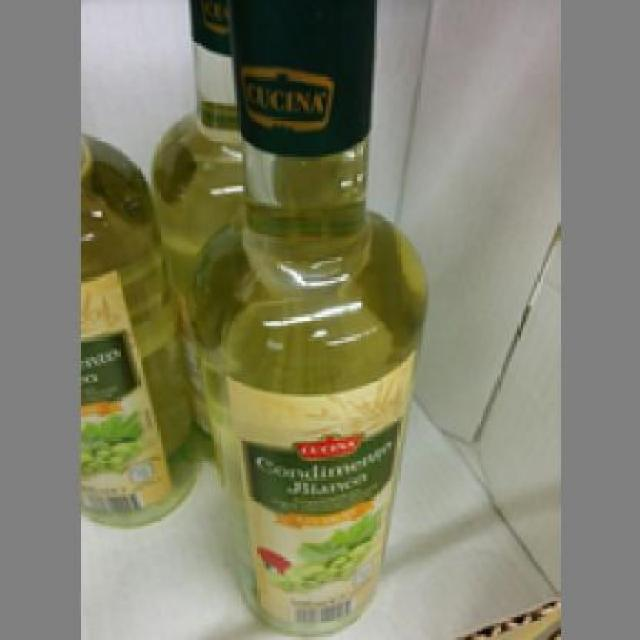Vinegar: (197, 2, 423, 638), (74, 127, 203, 524)
